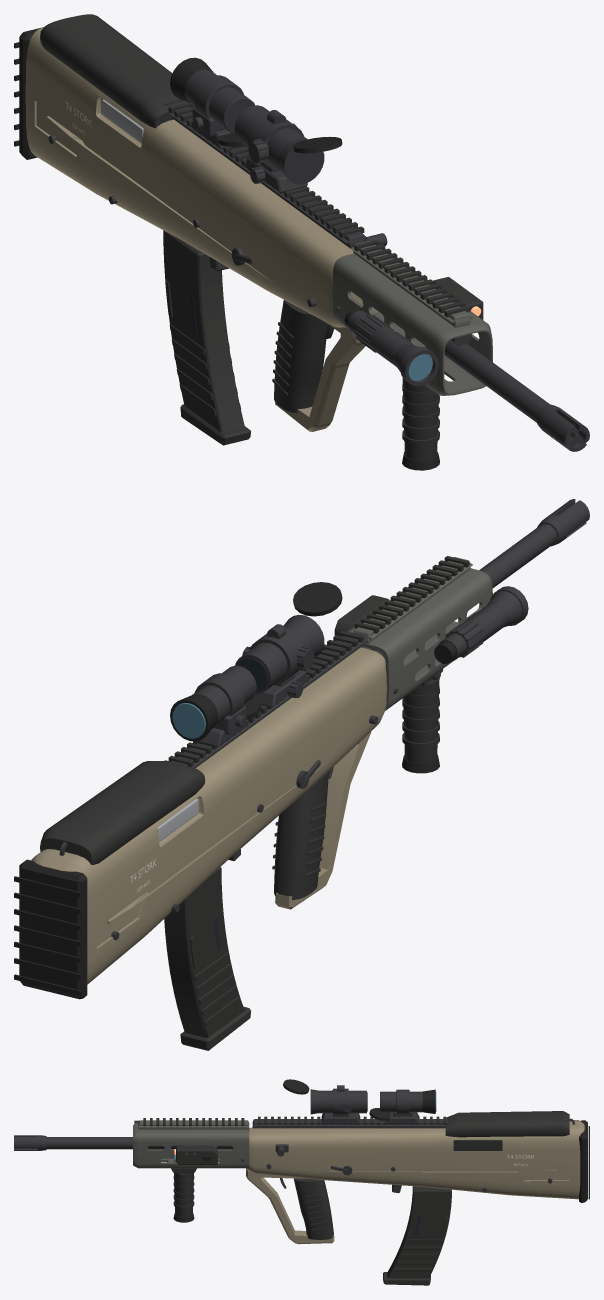
File: stork4.glb
The picture shows the model from 3 angles, top to bottom: view 1: azimuth 30°, elevation 25°; view 2: azimuth 150°, elevation 25°; view 3: azimuth 270°, elevation 25°; orthographic projection. The views are drawn at different scales.
Parts seen in each view (by area): view 1: Body, opt_scope, opt_laser; view 2: Body, opt_scope, opt_laser; view 3: Body, opt_scope, opt_laser.
Part boxes in pixels (x1,y1,x2,y2): Body: (14, 14, 589, 470); opt_scope: (170, 57, 255, 148); opt_laser: (433, 277, 483, 319); Body: (14, 499, 589, 1050); opt_scope: (170, 665, 256, 746); opt_laser: (334, 595, 388, 635); Body: (14, 1079, 589, 1285); opt_scope: (380, 1089, 436, 1124); opt_laser: (174, 1146, 217, 1164).
Bounding box in the file's own units: 0.1163 × 0.3384 × 0.881.
